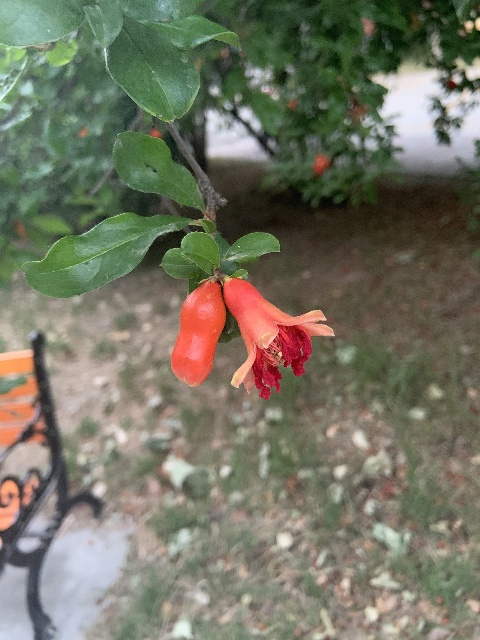bud: (170, 279, 225, 387)
flower: (224, 278, 333, 399)
